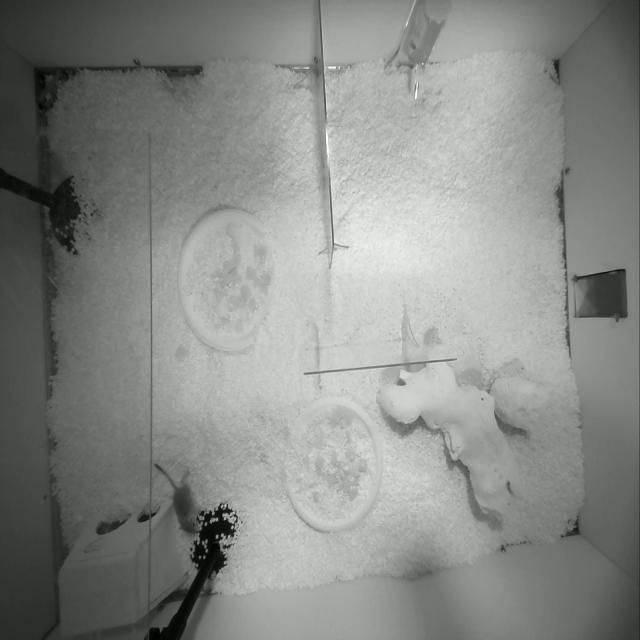pup_fluffy: (155, 463, 198, 532)
